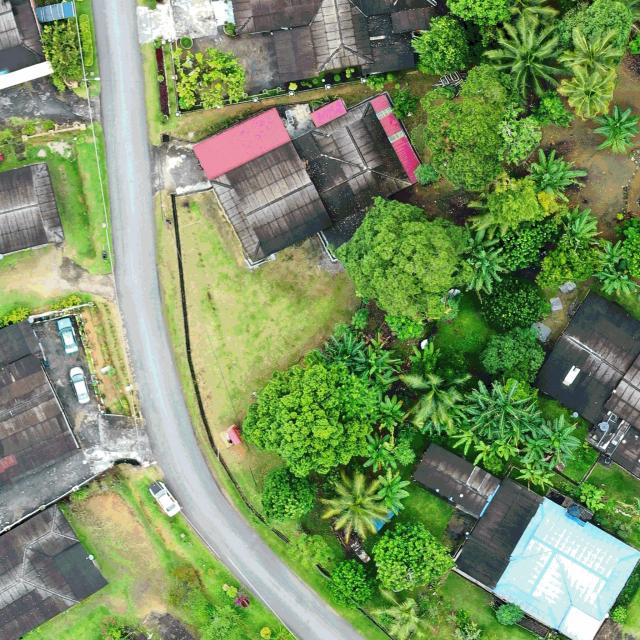0: (481, 16, 562, 99), (318, 468, 388, 542), (402, 367, 475, 435), (369, 585, 437, 640), (561, 25, 623, 79), (558, 64, 617, 118)
banana_tree2: (465, 374, 538, 448), (524, 148, 587, 203), (463, 221, 508, 292), (589, 102, 640, 156), (537, 410, 585, 465), (359, 331, 404, 387), (319, 331, 368, 376), (378, 467, 410, 516), (561, 205, 600, 245), (374, 392, 409, 433), (591, 266, 637, 295), (362, 432, 395, 472), (519, 433, 552, 463), (595, 240, 628, 265)
tree: (334, 196, 474, 323), (242, 361, 375, 481), (420, 63, 519, 192), (372, 519, 454, 593), (170, 46, 247, 111), (560, 0, 634, 63), (409, 12, 474, 77), (481, 273, 554, 329), (478, 325, 546, 377), (39, 18, 83, 91), (261, 467, 316, 522), (326, 556, 376, 611), (494, 114, 543, 166), (286, 532, 336, 570), (389, 86, 418, 120), (495, 602, 526, 627)
